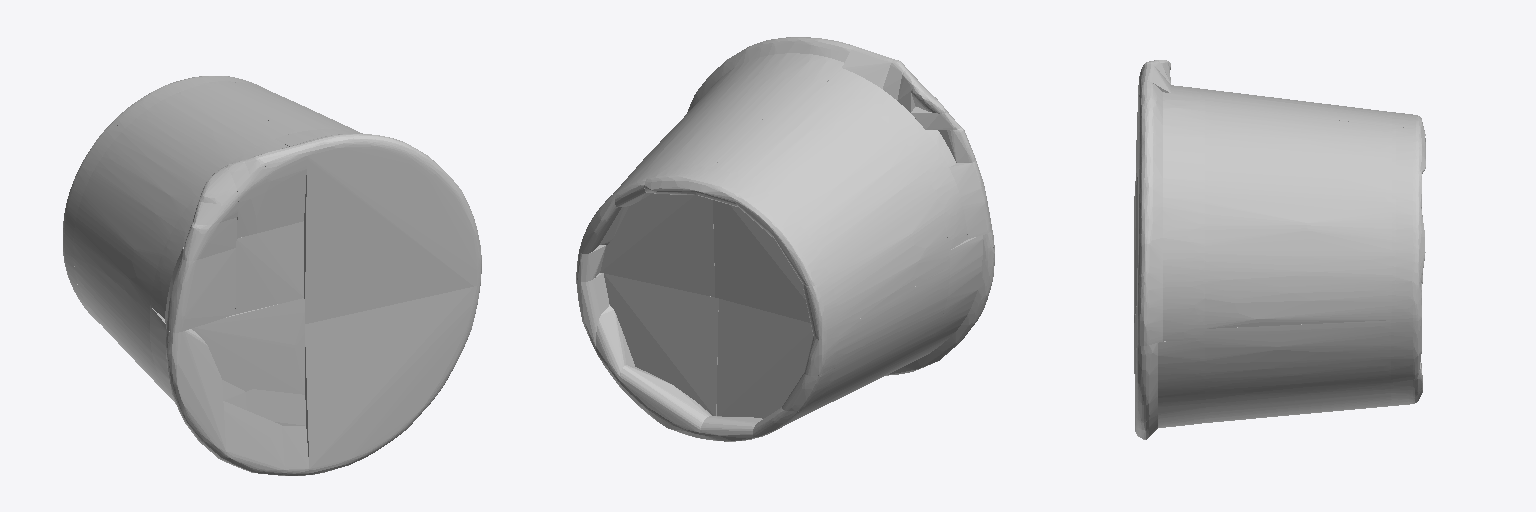
File: coacd_collision.obj
The picture shows the model from 3 angles: view 1: azimuth 30°, elevation 25°; view 2: azimuth 150°, elevation 25°; view 3: azimuth 270°, elevation 25°; orthographic projection.
Visible parts, largest first — view 1: geometry_4, geometry_5, geometry_3, geometry_12, geometry_18, geometry_9, geometry_25, geometry_6, geometry_31, geometry_36, geometry_8, geometry_1 (+12 smaller); view 2: geometry_5, geometry_6, geometry_8, geometry_7, geometry_1, geometry_10, geometry_11, geometry_4, geometry_2, geometry_23, geometry_25, geometry_12 (+18 smaller); view 3: geometry_8, geometry_7, geometry_2, geometry_4, geometry_0, geometry_5, geometry_33, geometry_3, geometry_16, geometry_35, geometry_21, geometry_13 (+1 smaller).
Boxes of the visible parts, x1,y1,x2,y2 form: geometry_4: [302, 134, 481, 323]; geometry_5: [73, 86, 291, 320]; geometry_3: [305, 284, 480, 474]; geometry_12: [166, 298, 304, 465]; geometry_18: [235, 221, 303, 314]; geometry_9: [167, 329, 225, 459]; geometry_25: [165, 247, 235, 332]; geometry_6: [74, 250, 175, 403]; geometry_31: [223, 401, 284, 475]; geometry_36: [261, 143, 306, 231]; geometry_8: [200, 82, 362, 133]; geometry_1: [150, 139, 288, 318]; geometry_5: [713, 78, 949, 330]; geometry_6: [717, 267, 949, 420]; geometry_8: [600, 74, 804, 296]; geometry_7: [604, 274, 718, 415]; geometry_1: [825, 68, 967, 250]; geometry_10: [620, 365, 711, 438]; geometry_11: [897, 235, 982, 369]; geometry_4: [687, 37, 853, 112]; geometry_2: [701, 53, 843, 98]; geometry_23: [772, 211, 829, 285]; geometry_25: [949, 161, 991, 238]; geometry_12: [886, 231, 993, 375]; geometry_8: [1205, 106, 1391, 328]; geometry_7: [1205, 320, 1390, 422]; geometry_2: [1163, 92, 1204, 341]; geometry_4: [1137, 81, 1162, 345]; geometry_0: [1158, 340, 1204, 427]; geometry_5: [1205, 89, 1391, 125]; geometry_33: [1396, 200, 1425, 289]; geometry_3: [1135, 343, 1157, 439]; geometry_16: [1391, 317, 1421, 383]; geometry_35: [1396, 127, 1425, 173]; geometry_21: [1392, 165, 1421, 207]; geometry_13: [1392, 287, 1421, 319].
Size of the model in its own units: 138 by 139 by 110.